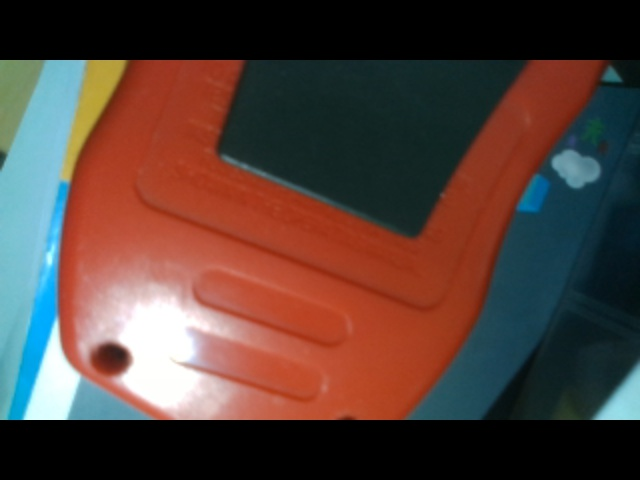Screw holes: (86, 339, 137, 380)
